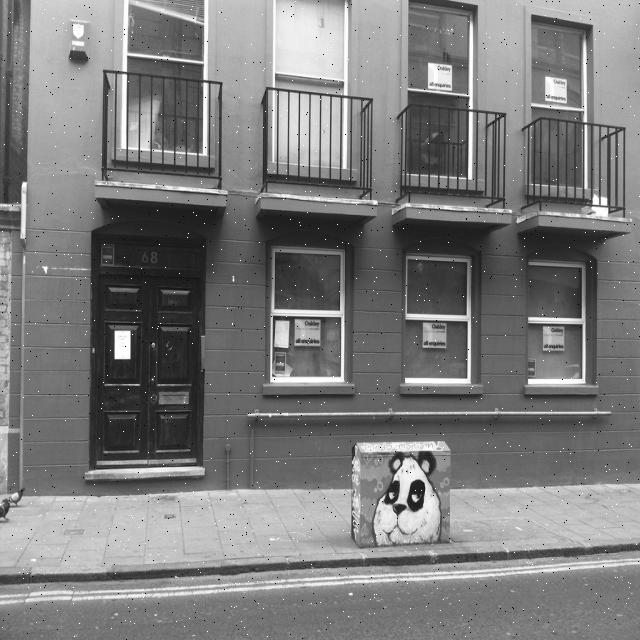panda: (375, 446, 441, 546)
